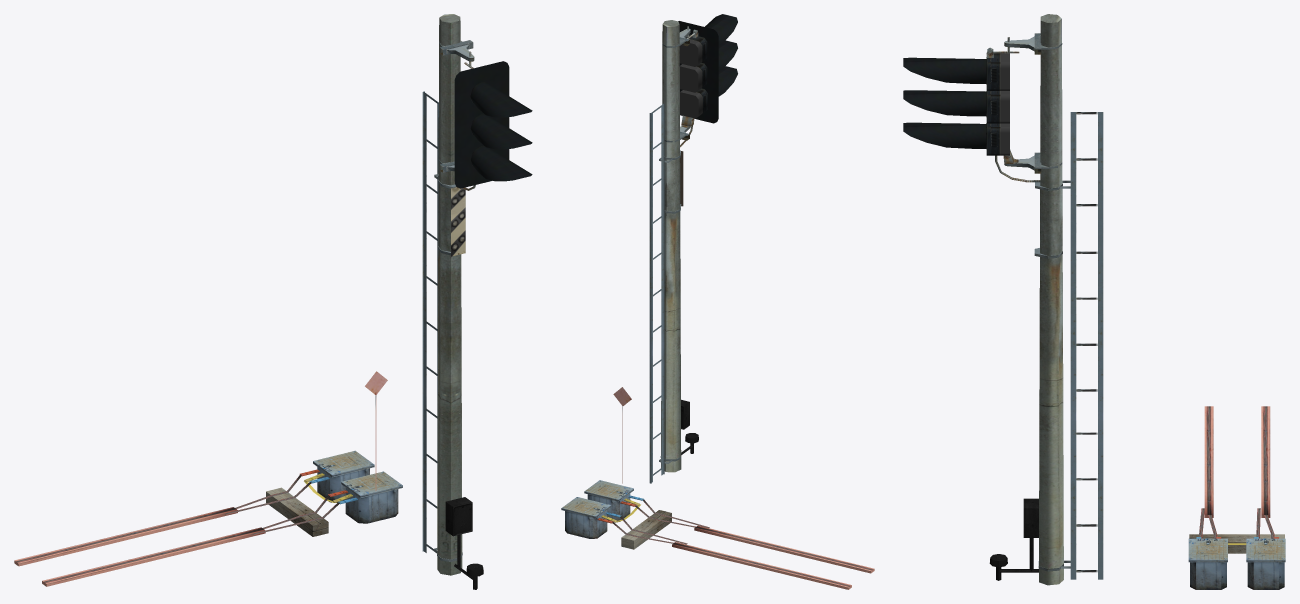
File: signal_pred.gltf
The picture shows the model from 3 angles, left to right: view 1: azimuth 30°, elevation 25°; view 2: azimuth 150°, elevation 25°; view 3: azimuth 270°, elevation 25°; orthographic projection. The views are drawn at different scales.
Size of the model in its own units: 4.08 by 6.05 by 3.73.
1 material, 1 textured.
